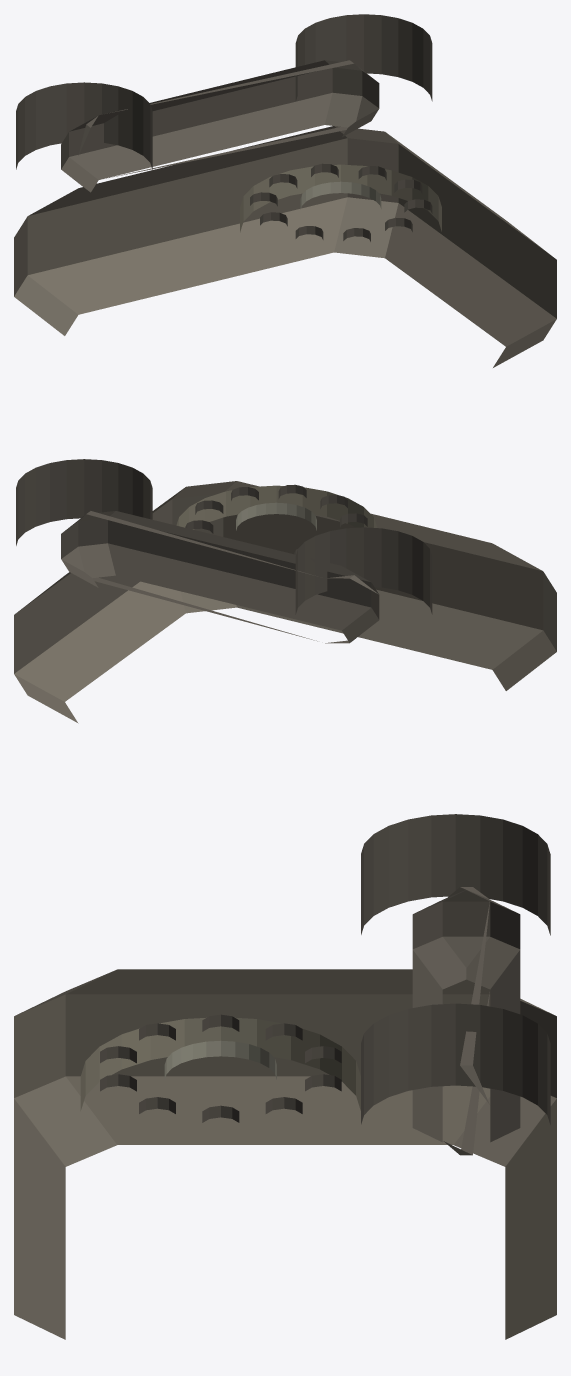
File: desk-telephone.glb
3 renders of one model, top to bottom at view 1: azimuth 30°, elevation 25°; view 2: azimuth 150°, elevation 25°; view 3: azimuth 270°, elevation 25°, orthographic. The views are drawn at different scales.
Visible parts, largest first — view 1: desk-telephone; view 2: desk-telephone; view 3: desk-telephone.
Boxes of the visible parts, x1=… form: desk-telephone: x1=14, y1=14, x2=556, y2=367; desk-telephone: x1=14, y1=459, x2=556, y2=723; desk-telephone: x1=14, y1=814, x2=556, y2=1339.
Bounding box in the file's own units: 0.296 × 0.156 × 0.252.
